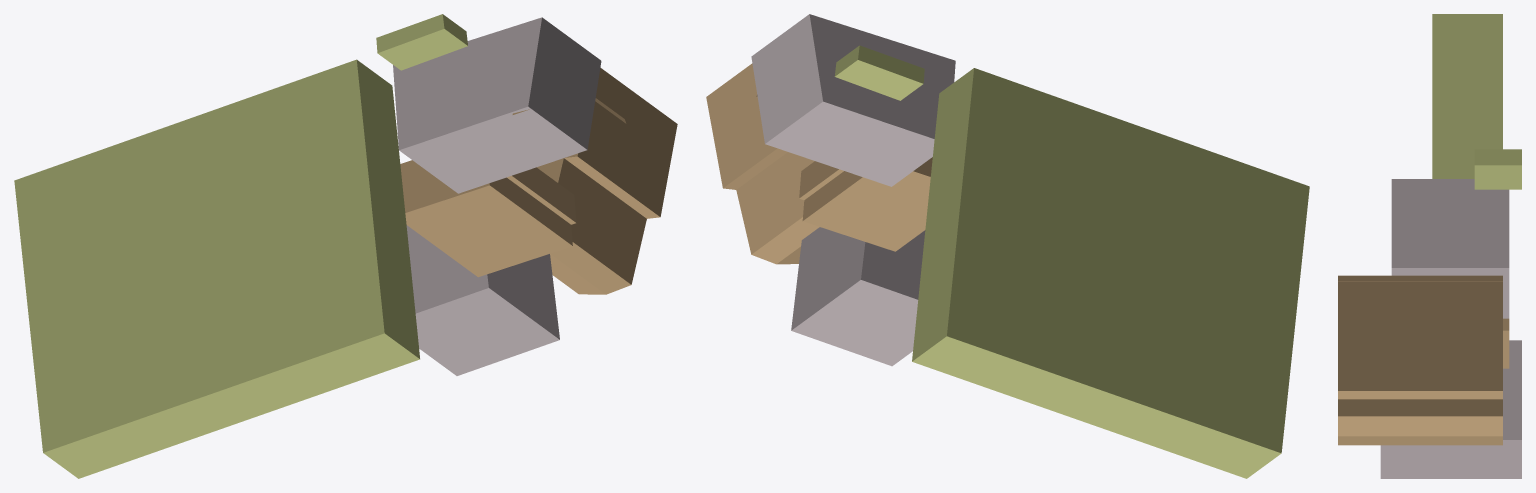
3 views of the same model, side by side, from view 1: azimuth 30°, elevation 25°; view 2: azimuth 150°, elevation 25°; view 3: azimuth 270°, elevation 25° (orthographic). The views are drawn at different scales.
Visible parts, largest first — view 1: 0_3_0_1_1_2_0_2; view 2: 0_3_0_1_1_2_0_2; view 3: 0_3_0_1_1_2_0_2.
Boxes of the visible parts, box(x1,y1,x2,y2) form: 0_3_0_1_1_2_0_2: box(14, 14, 677, 478); 0_3_0_1_1_2_0_2: box(706, 14, 1309, 478); 0_3_0_1_1_2_0_2: box(1338, 14, 1521, 478).
Size of the model in its own units: 84.67 by 46.31 by 23.4.
